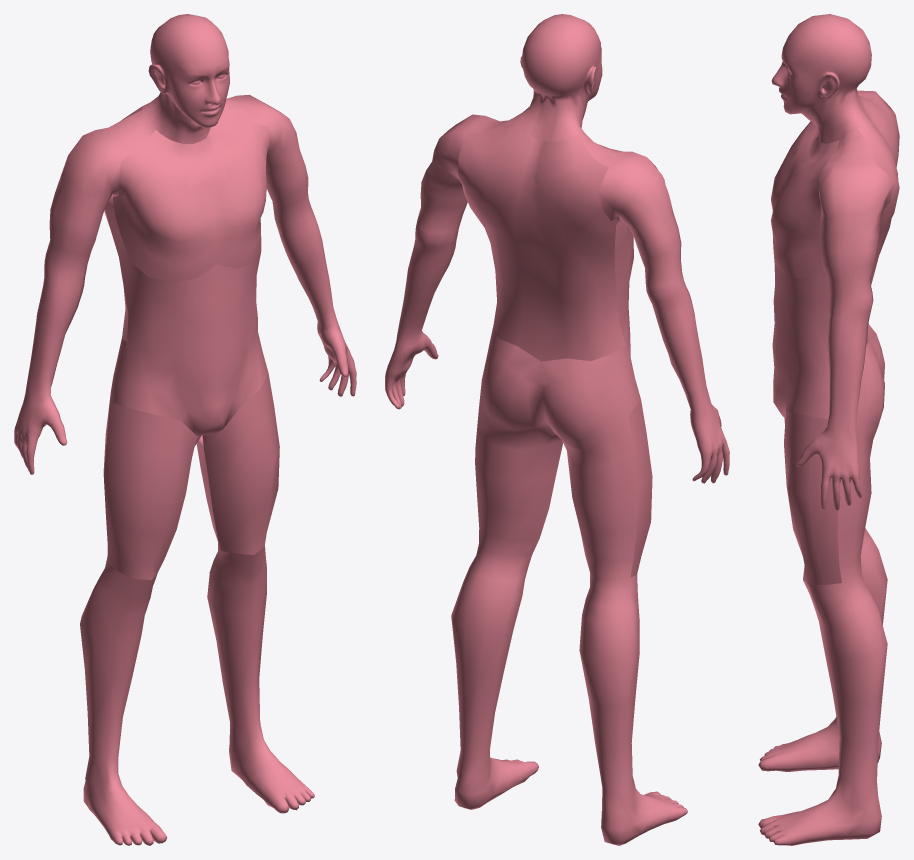
Rendered from chad.gltf.
The picture shows the model from 3 angles, left to right: view 1: azimuth 30°, elevation 25°; view 2: azimuth 150°, elevation 25°; view 3: azimuth 270°, elevation 25°; orthographic projection.
Visible parts, largest first — view 1: body, Quadriceps, Chest; view 2: body, Back, Quadriceps; view 3: body, Chest, Quadriceps, Back.
Boxes of the visible parts, x1=… form: body: x1=14, y1=14, x2=356, y2=845; Quadriceps: x1=104, y1=373, x2=279, y2=579; Chest: x1=113, y1=118, x2=269, y2=281; body: x1=385, y1=14, x2=729, y2=845; Back: x1=458, y1=118, x2=625, y2=361; Quadriceps: x1=628, y1=400, x2=652, y2=577; body: x1=758, y1=14, x2=895, y2=845; Chest: x1=771, y1=121, x2=839, y2=278; Quadriceps: x1=784, y1=410, x2=841, y2=584; Back: x1=827, y1=95, x2=899, y2=355.
Size of the model in its own units: 0.7877 by 1.8 by 0.2937.
